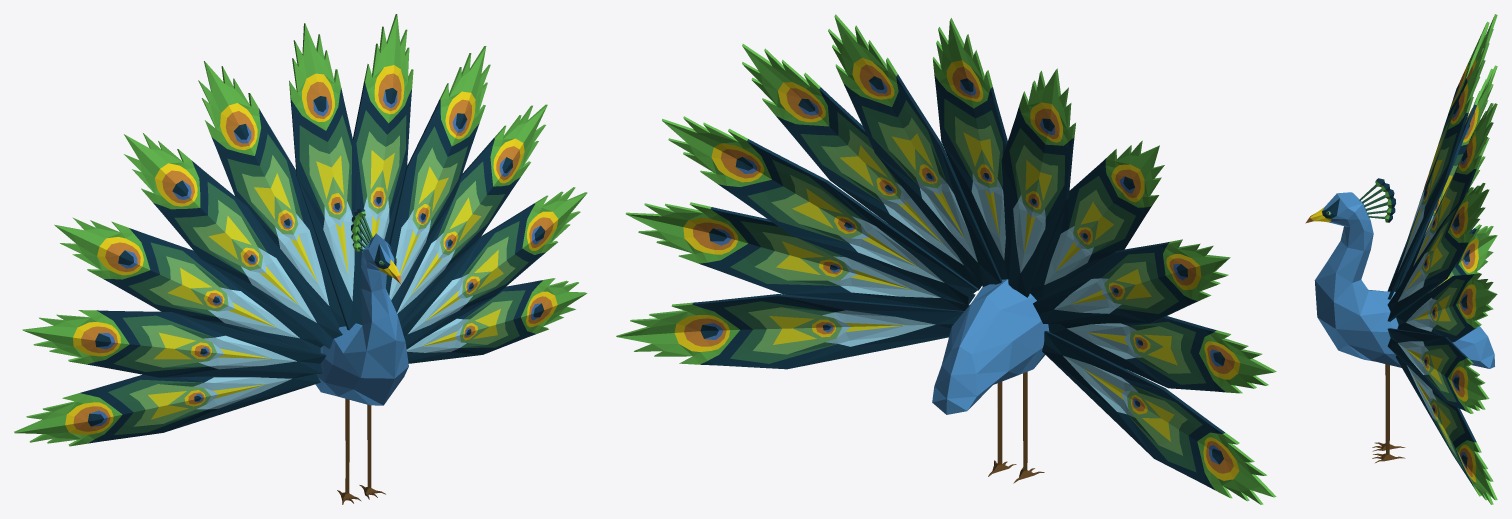
Rendered from delh_anim_02.fbx.
The picture shows the model from 3 angles, left to right: view 1: azimuth 30°, elevation 25°; view 2: azimuth 150°, elevation 25°; view 3: azimuth 270°, elevation 25°; orthographic projection. The views are drawn at different scales.
Parts seen in each view (by area): view 1: delh_anim_02; view 2: delh_anim_02; view 3: delh_anim_02.
Boxes of the visible parts, x1,y1,x2,y2 form: delh_anim_02: (14,14,587,504); delh_anim_02: (616,14,1276,504); delh_anim_02: (1305,14,1497,504).
Bounding box in the file's own units: 136 × 98.15 × 41.65.
